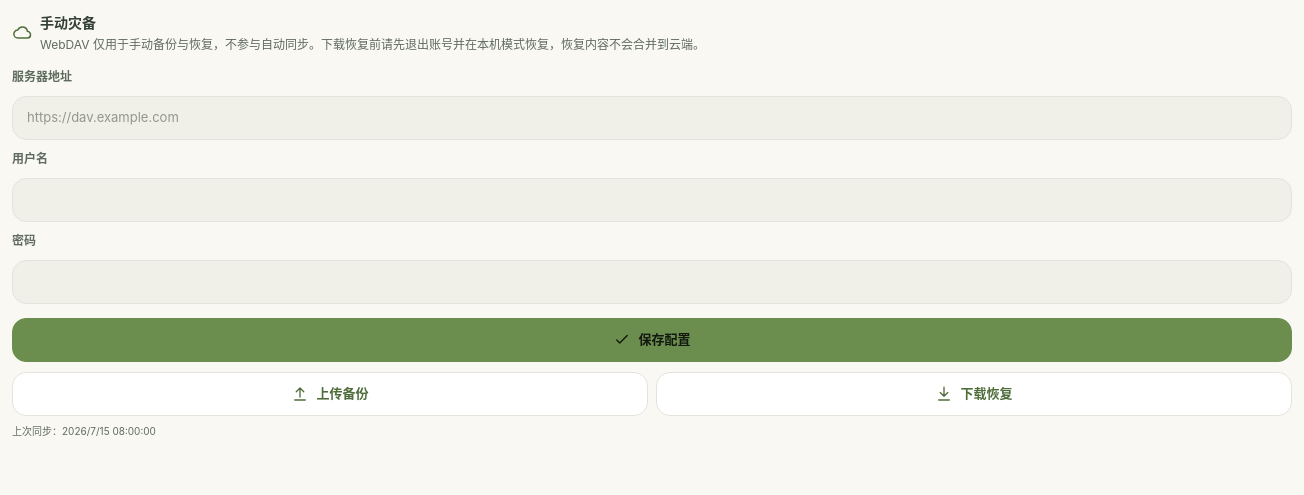
Test: WebDAVConfig › surfaces a save error and reenables every action
Step 1. Click the button "保存配置" → (652, 340), box x1=12 y1=318 x2=1292 y2=362
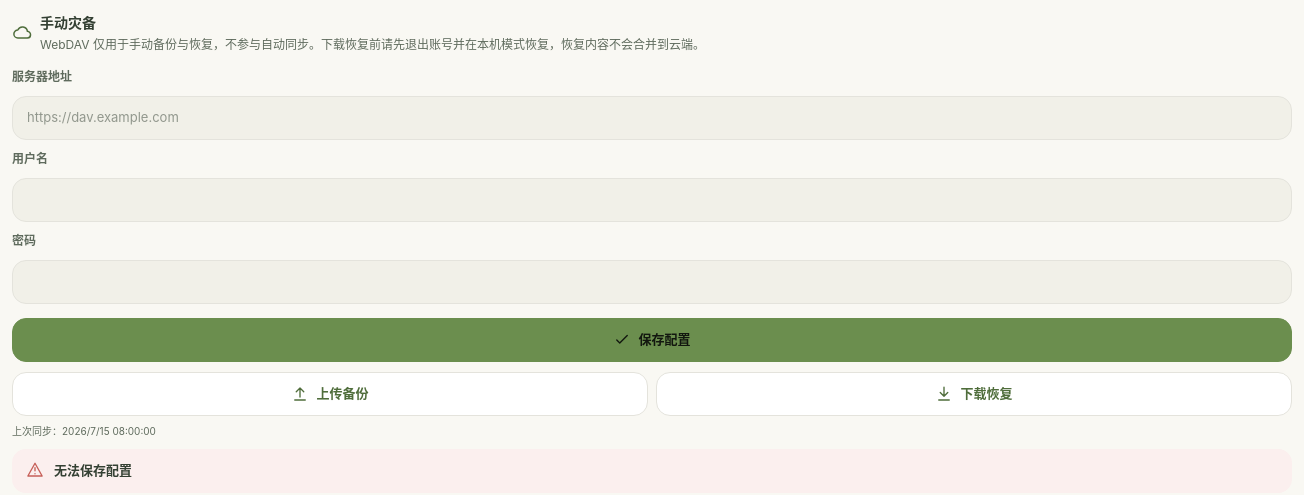
Expected: the button "上传备份" is enabled, x1=12 y1=372 x2=648 y2=416
Expected: the message reads "无法保存配置", x1=54 y1=462 x2=132 y2=478
